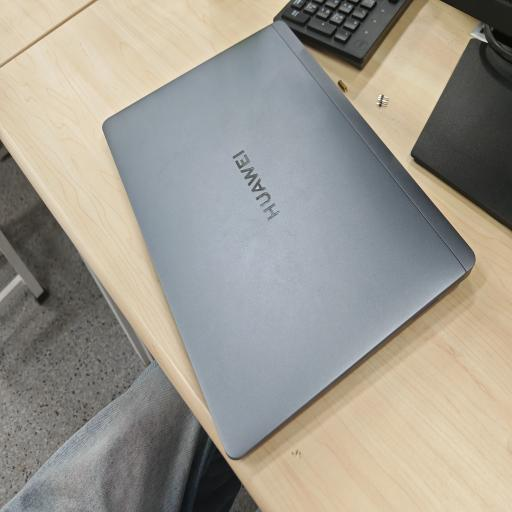laptop: (103, 22, 475, 458)
